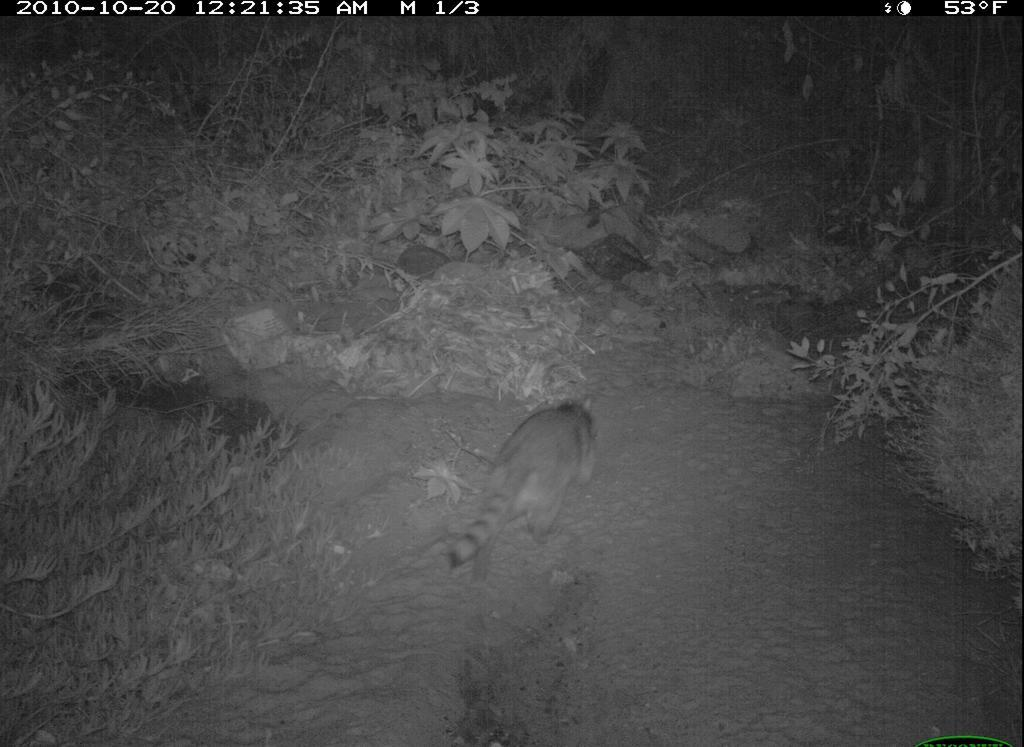raccoon: (440, 386, 607, 592)
